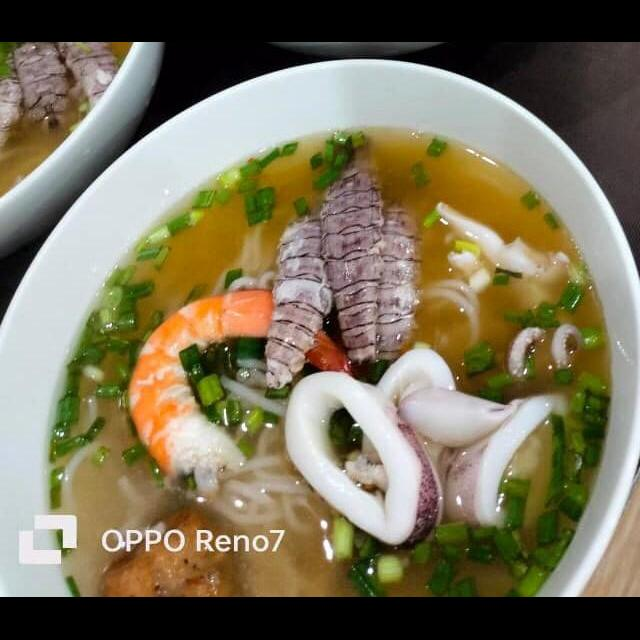bun: (186, 352, 326, 538), (410, 270, 486, 364)
bun hai san: (5, 109, 640, 582)
muc: (280, 368, 448, 560), (428, 198, 588, 380), (436, 384, 582, 542), (358, 342, 468, 504)
tom: (122, 286, 356, 506)
tom tit: (314, 122, 386, 370), (256, 204, 340, 394), (366, 196, 424, 366)
